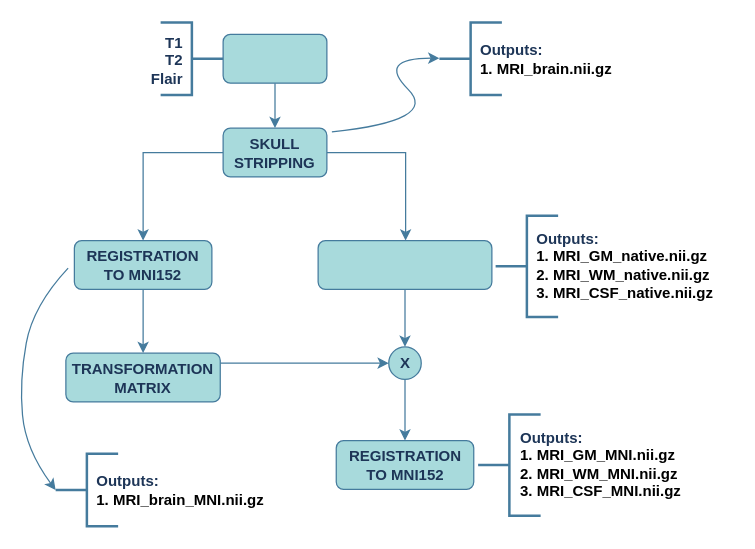
The diagram is 755 pixels wide and 549 high, and some of its shapes have lost their labels. The shapes that lost their labels are listed below. From the top down, each one's centre as x and y in pixels, then its label:
At pixel 274 58: "MRI IMAGE".
At pixel 404 264: "SEGMENTATION OF GM, WM, CSF".
